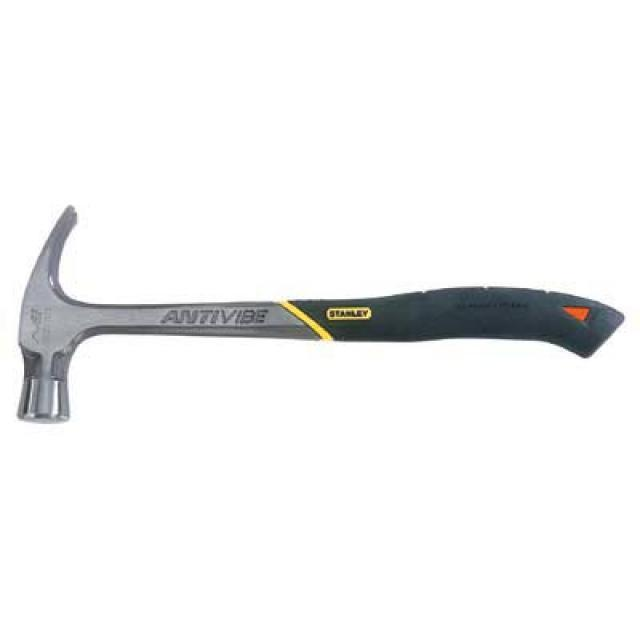hammer: (0, 190, 635, 437)
